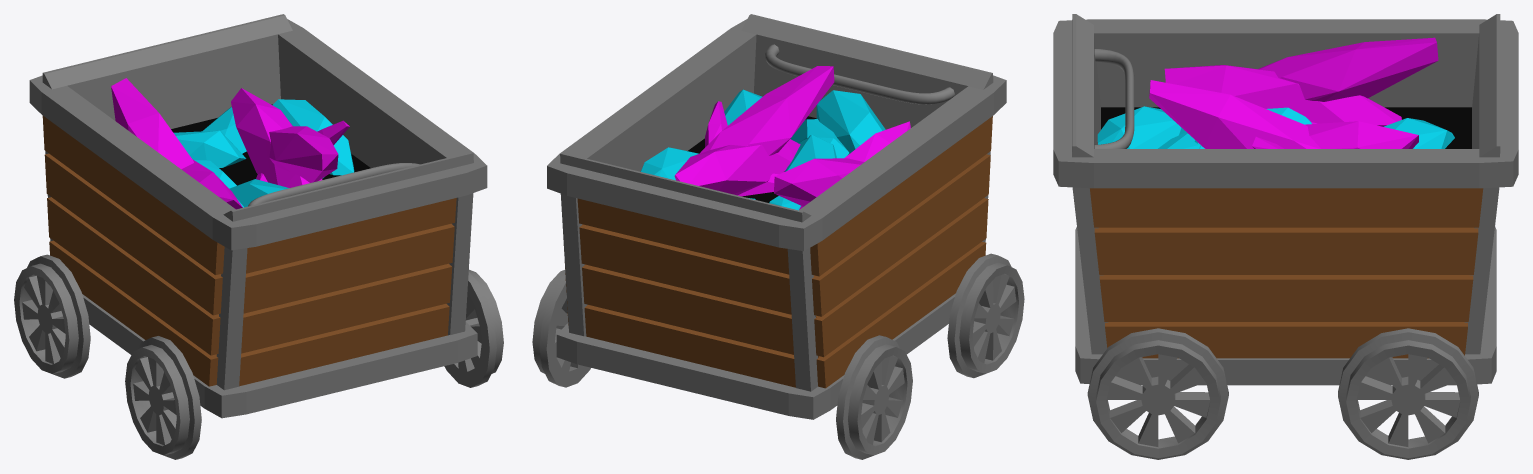
File: Carrinho com minério.fbx
The picture shows the model from 3 angles, left to right: view 1: azimuth 30°, elevation 25°; view 2: azimuth 150°, elevation 25°; view 3: azimuth 270°, elevation 25°; orthographic projection. The views are drawn at different scales.
Visible parts, largest first — view 1: NurbsPath.001; view 2: NurbsPath.001; view 3: NurbsPath.001.
Part boxes in pixels (x1,y1,x2,y2): NurbsPath.001: (14, 14, 503, 459); NurbsPath.001: (532, 14, 1024, 459); NurbsPath.001: (1053, 14, 1518, 459).
Size of the model in its own units: 197 by 154 by 217.
